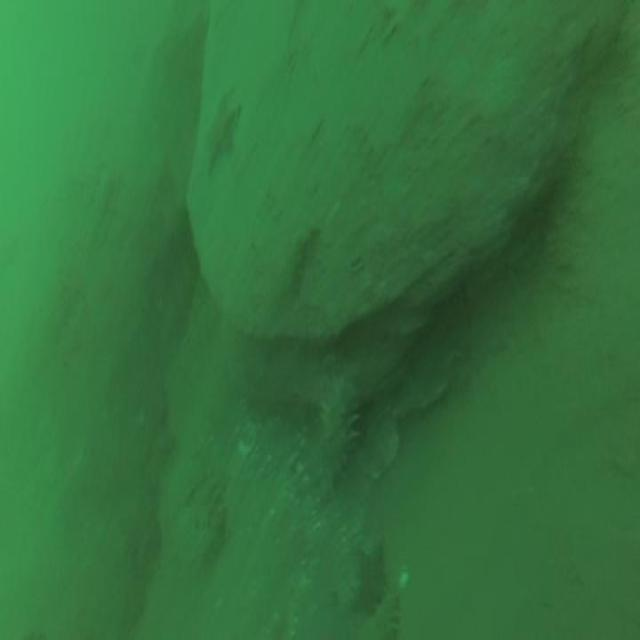holothurian: (299, 364, 365, 504), (278, 223, 324, 308)
starfish: (200, 87, 241, 177)
